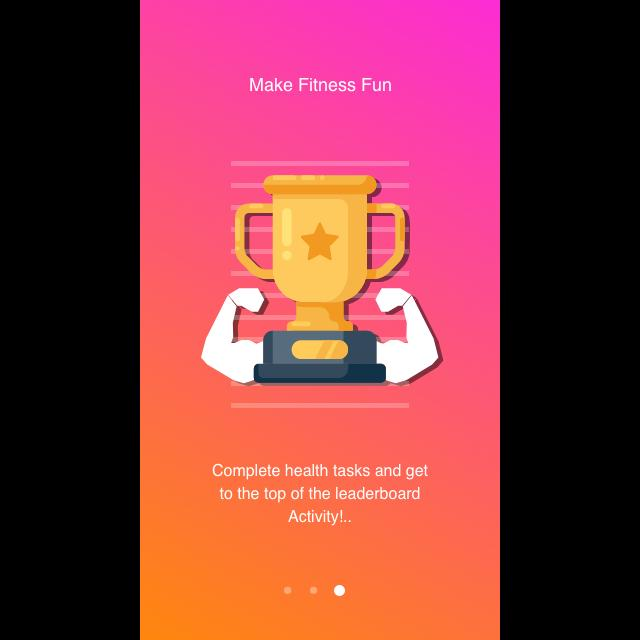image: (201, 161, 444, 409)
pageindicator: (283, 584, 347, 596)
text: (212, 464, 428, 526), (250, 78, 392, 94)
